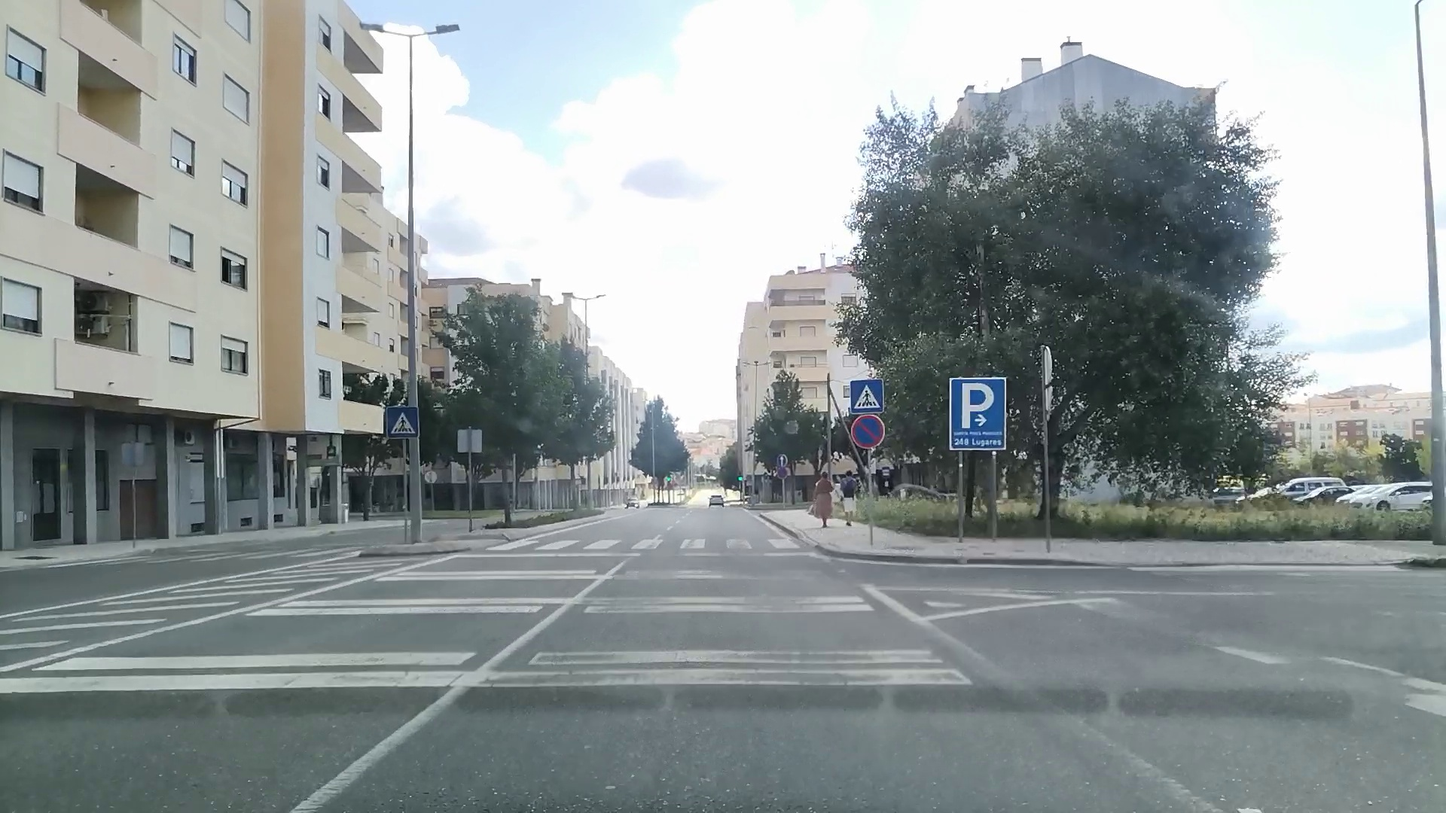Stairs: (486, 537, 801, 552)
